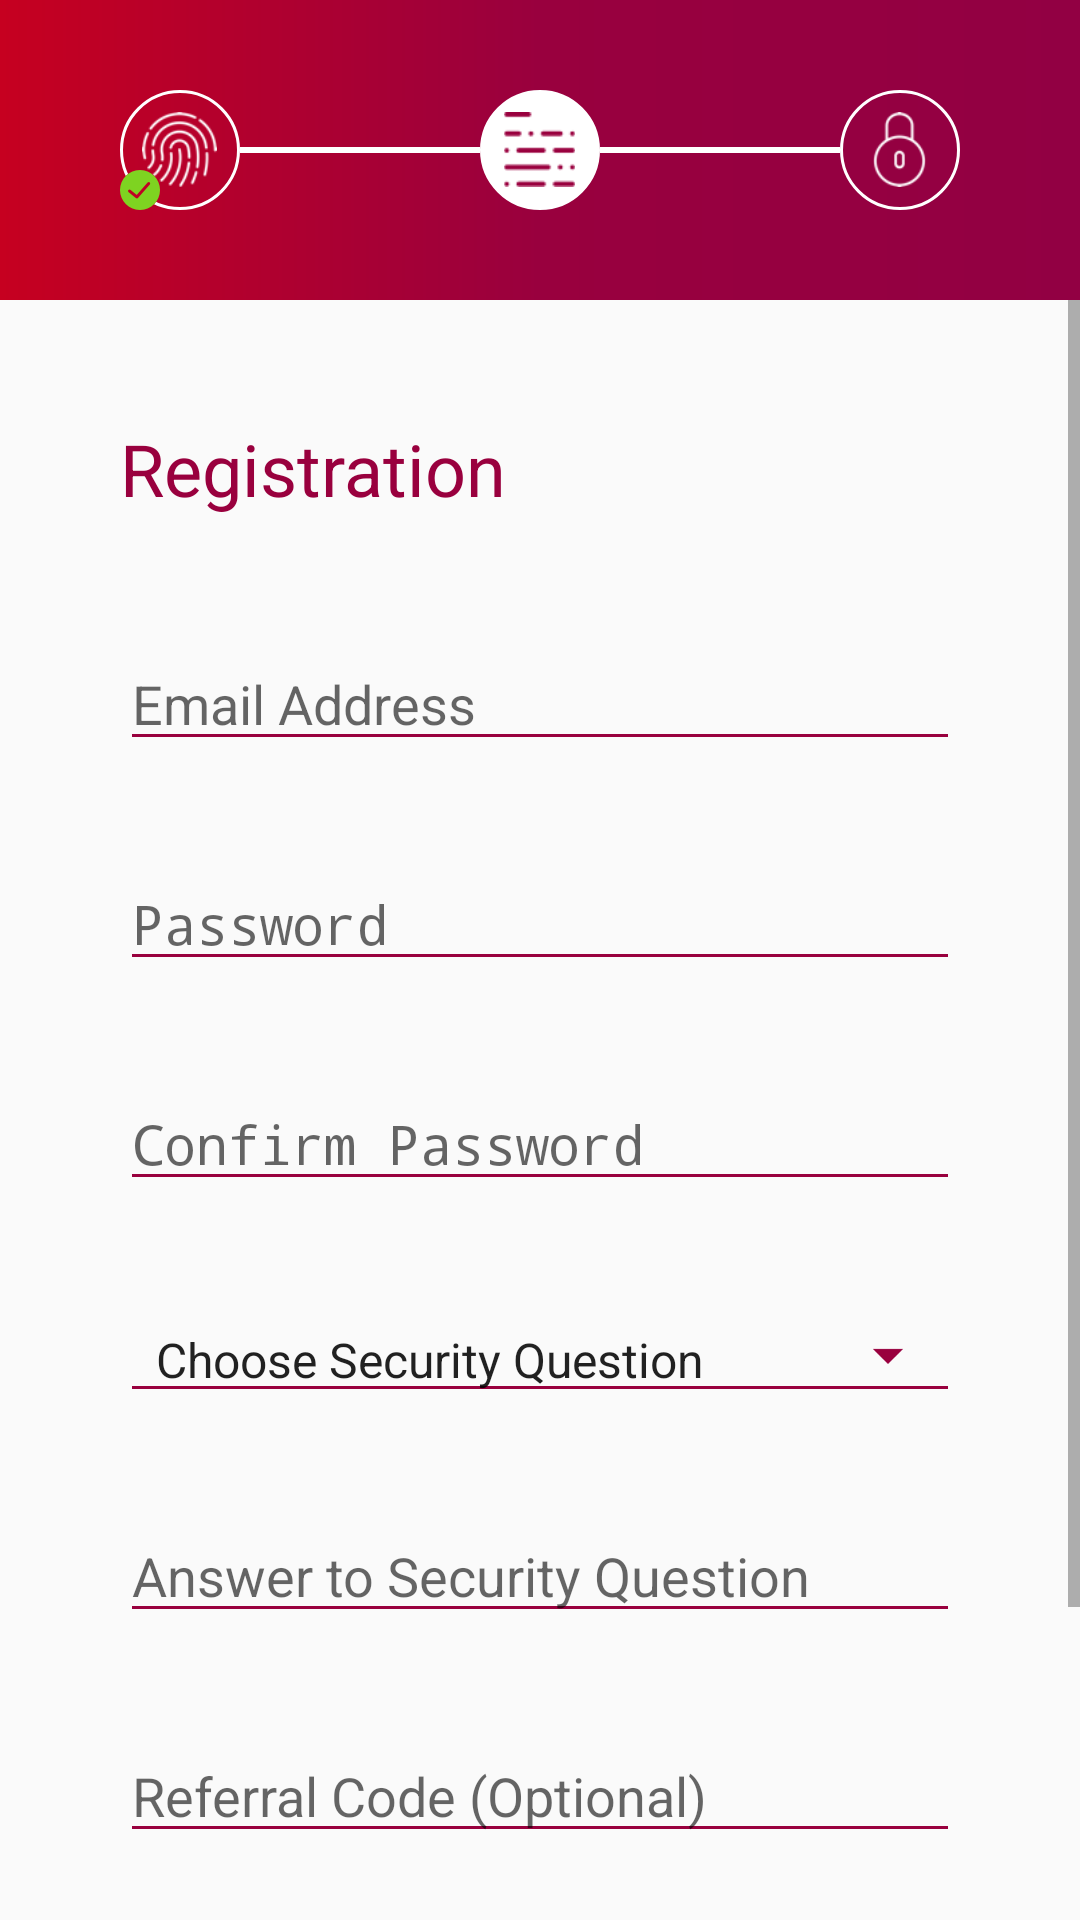

Point at icon controls on the screen. Image size 1080px×1920px, points as point (x, y).
document: point (539, 149)
locked: point (899, 149)
